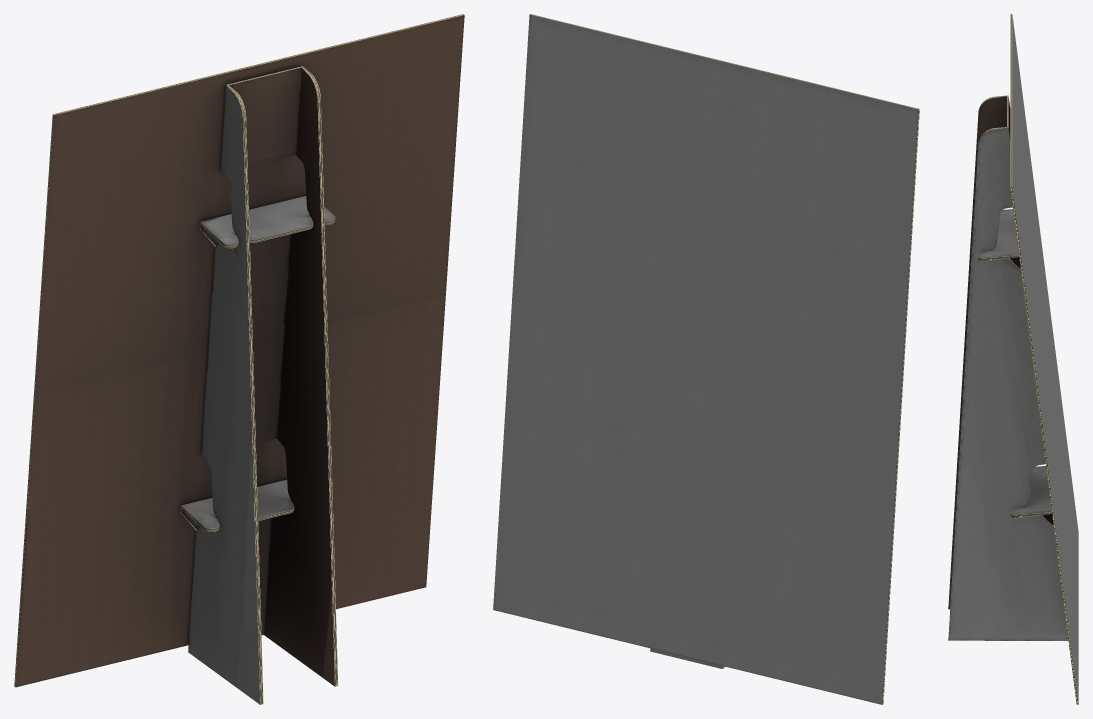
Rendered from caballete-03.glb.
3 views of the same model, side by side, from view 1: azimuth 30°, elevation 25°; view 2: azimuth 150°, elevation 25°; view 3: azimuth 270°, elevation 25° (orthographic). The views are drawn at different scales.
Parts seen in each view (by area): view 1: Curve.001; view 2: Curve.001; view 3: Curve.001.
Part boxes in pixels (x1=…): Curve.001: x1=14, y1=14, x2=464, y2=704; Curve.001: x1=493, y1=14, x2=919, y2=704; Curve.001: x1=948, y1=14, x2=1078, y2=704.
Size of the model in its own units: 0.8606 by 1.21 by 0.2739.
Materials: 4 (4 with a texture image).
